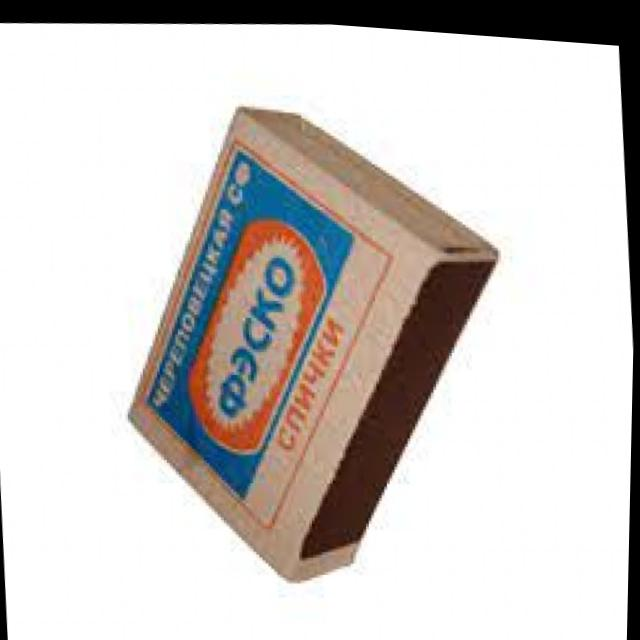match: (97, 73, 529, 606)
